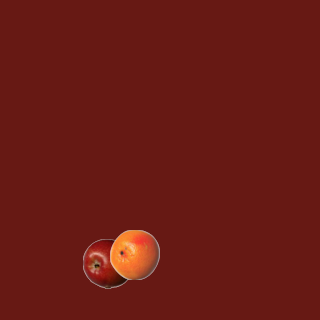Apple Braeburn: (82, 238, 132, 288)
Grapefruit Pink: (109, 229, 159, 279)
